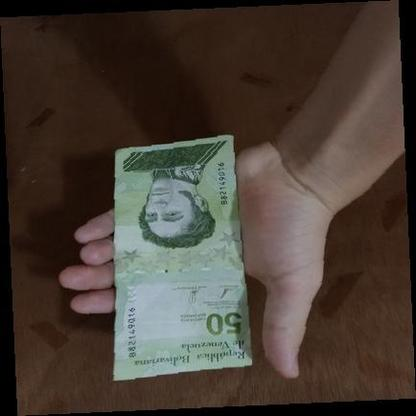fifty-front-vef: (112, 136, 252, 381)
